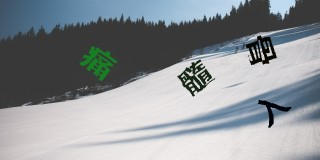入: (256, 97, 291, 129)
痛: (80, 44, 117, 81)
骨: (245, 33, 278, 67)
髓: (175, 58, 217, 97)
